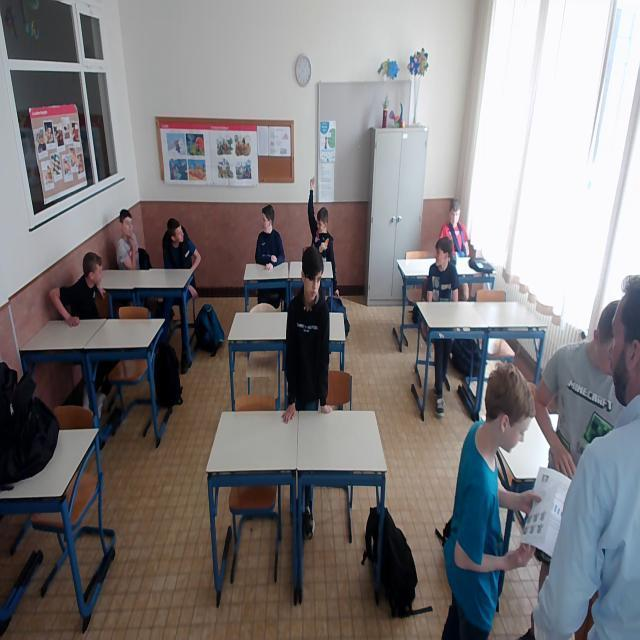Looking away: (82, 252, 105, 286), (434, 240, 452, 268), (167, 219, 186, 245), (119, 209, 134, 240), (260, 206, 275, 232)
Looking forward: (304, 272, 322, 300)
Raising hand: (306, 178, 342, 275)
